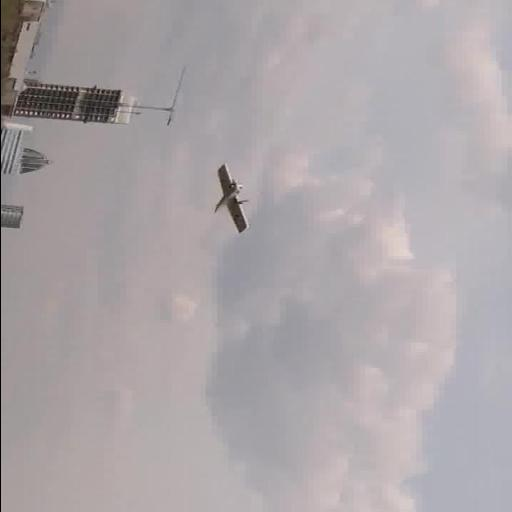uav: (205, 163, 253, 235)
